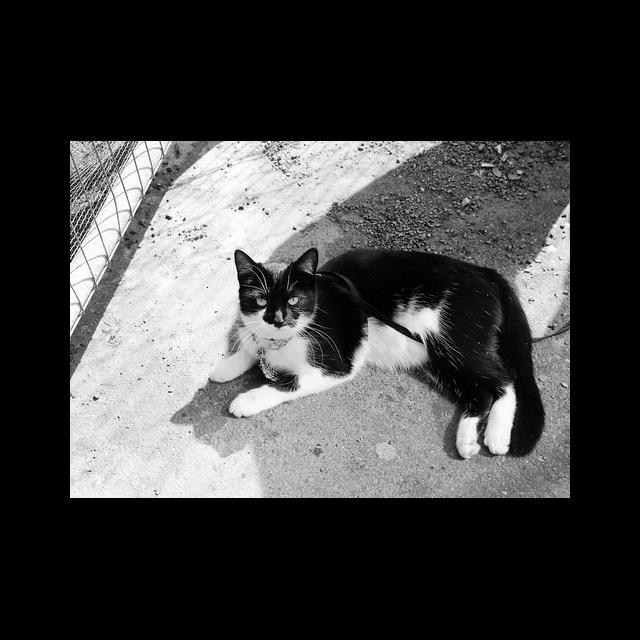animals: (209, 247, 546, 462)
